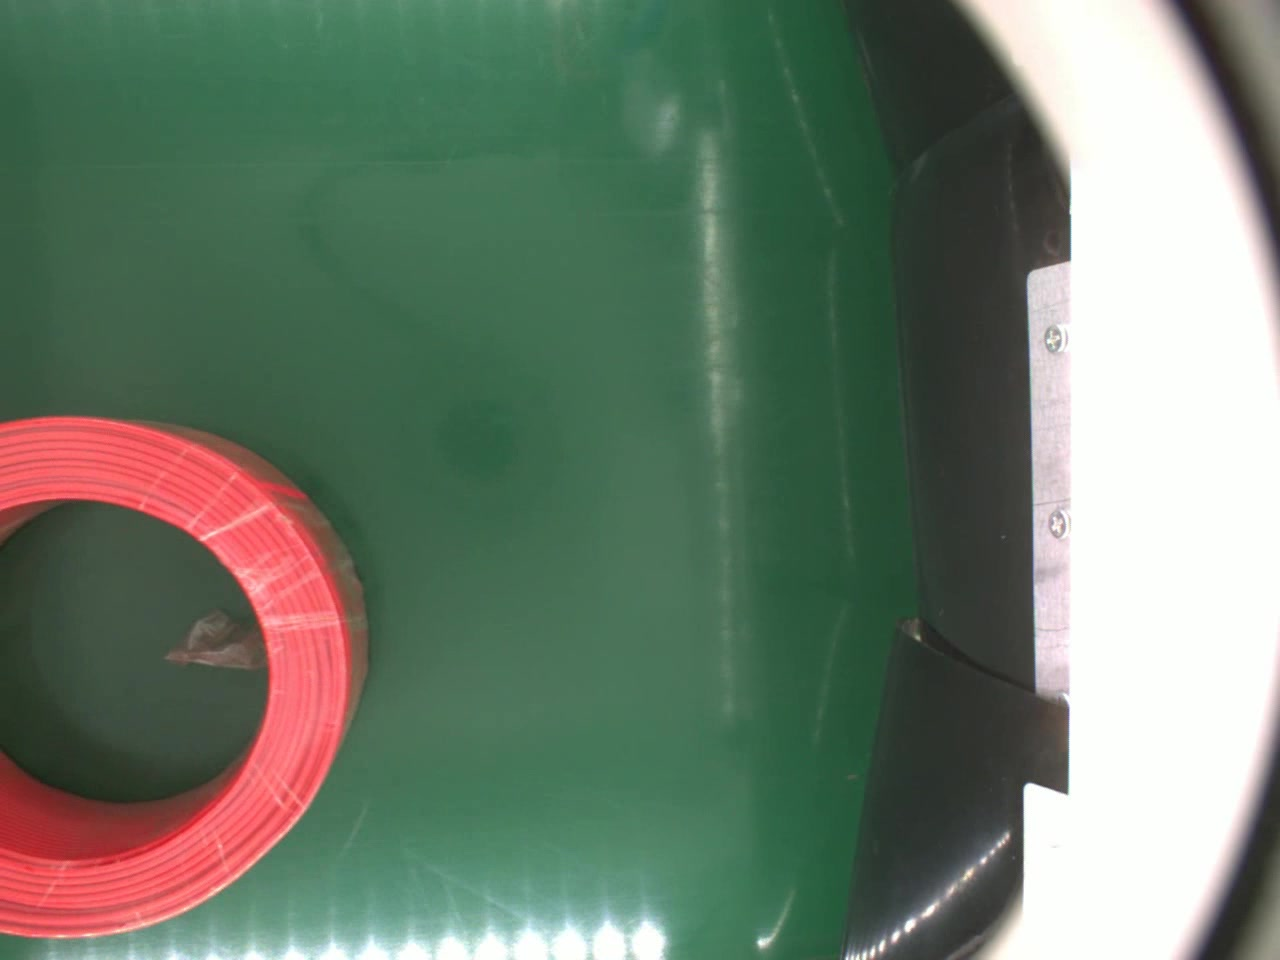red: (0, 406, 375, 944)
